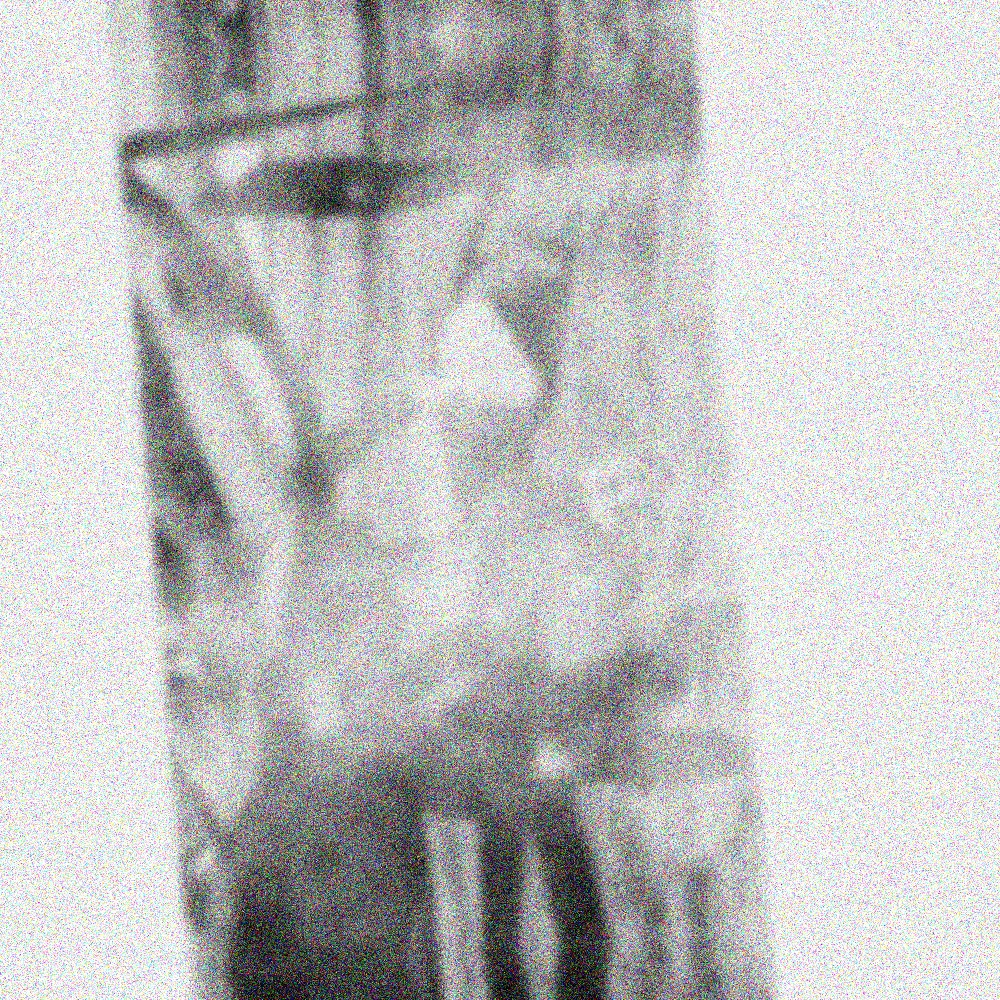chock: (578, 449, 685, 571), (496, 230, 583, 323)
wheel: (468, 458, 652, 625), (423, 277, 567, 413)
